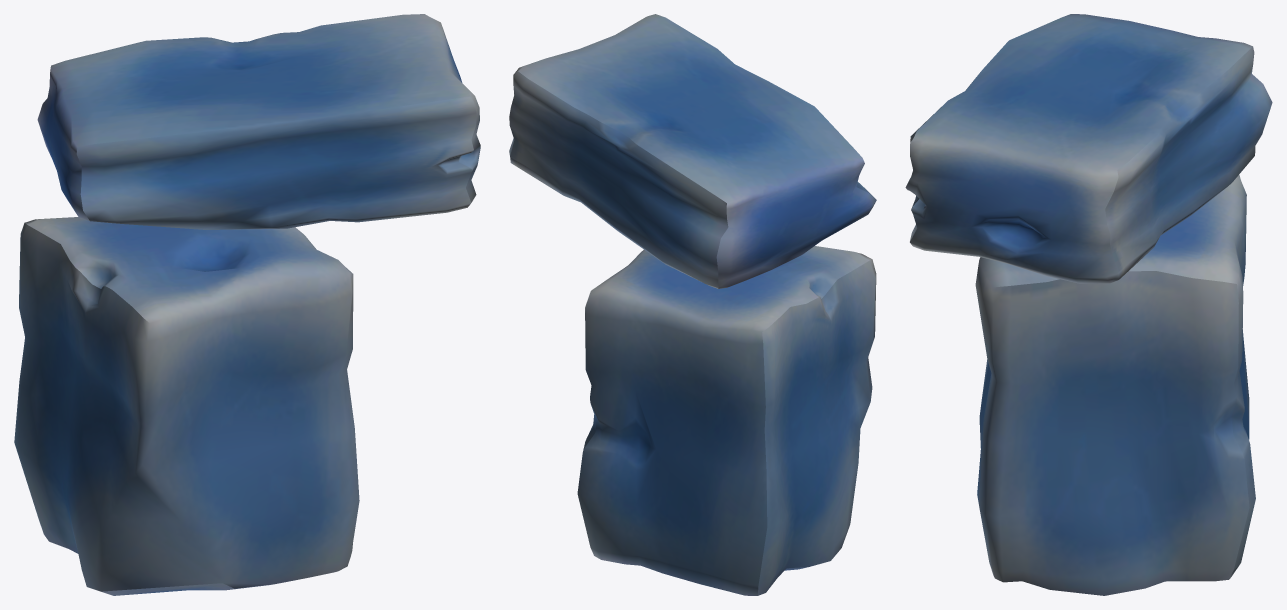
Rendered from p_dlc09_iceblock_02 (2).fbx.
The picture shows the model from 3 angles, left to right: view 1: azimuth 30°, elevation 25°; view 2: azimuth 150°, elevation 25°; view 3: azimuth 270°, elevation 25°; orthographic projection. The views are drawn at different scales.
Parts seen in each view (by area): view 1: p_dlc09_iceblock_02 (2), p_dlc09_iceblock_02 (11); view 2: p_dlc09_iceblock_02 (2), p_dlc09_iceblock_02 (11); view 3: p_dlc09_iceblock_02 (2), p_dlc09_iceblock_02 (11).
Part boxes in pixels (<box>): p_dlc09_iceblock_02 (2): <box>14,217,359,595</box>; p_dlc09_iceblock_02 (11): <box>37,14,480,229</box>; p_dlc09_iceblock_02 (2): <box>577,246,876,595</box>; p_dlc09_iceblock_02 (11): <box>509,14,876,288</box>; p_dlc09_iceblock_02 (2): <box>975,175,1255,595</box>; p_dlc09_iceblock_02 (11): <box>905,14,1272,283</box>.
Size of the model in its own units: 2.13 by 1.71 by 2.57.
Materials: 1 (1 with a texture image).
